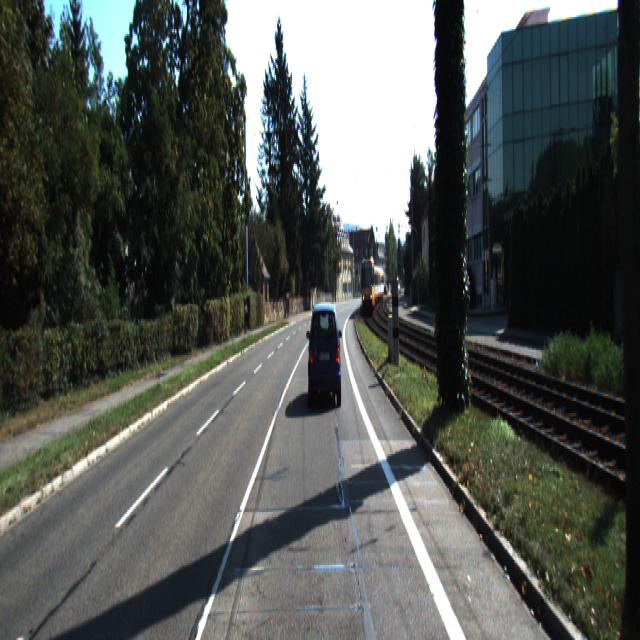Car: (308, 297, 342, 408), (361, 255, 374, 315)
